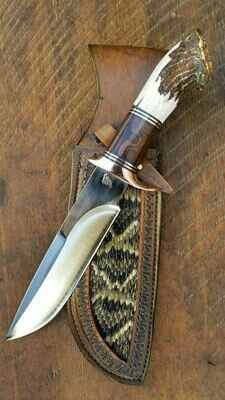knife: (4, 25, 217, 342)
